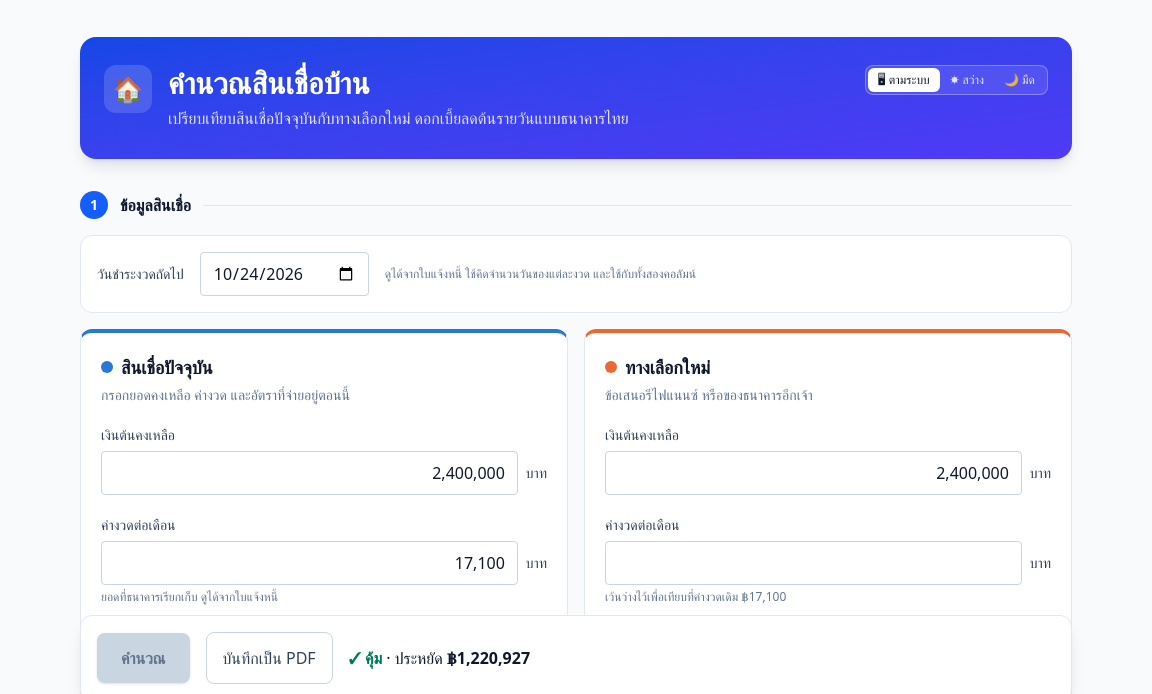
Test: App › refuses to calculate without a payment date
The width and height of the screenshot is (1152, 694).
Clear the date field labelled "วันชำระงวดถัดไป" at (284, 274), box [200,252,369,296]
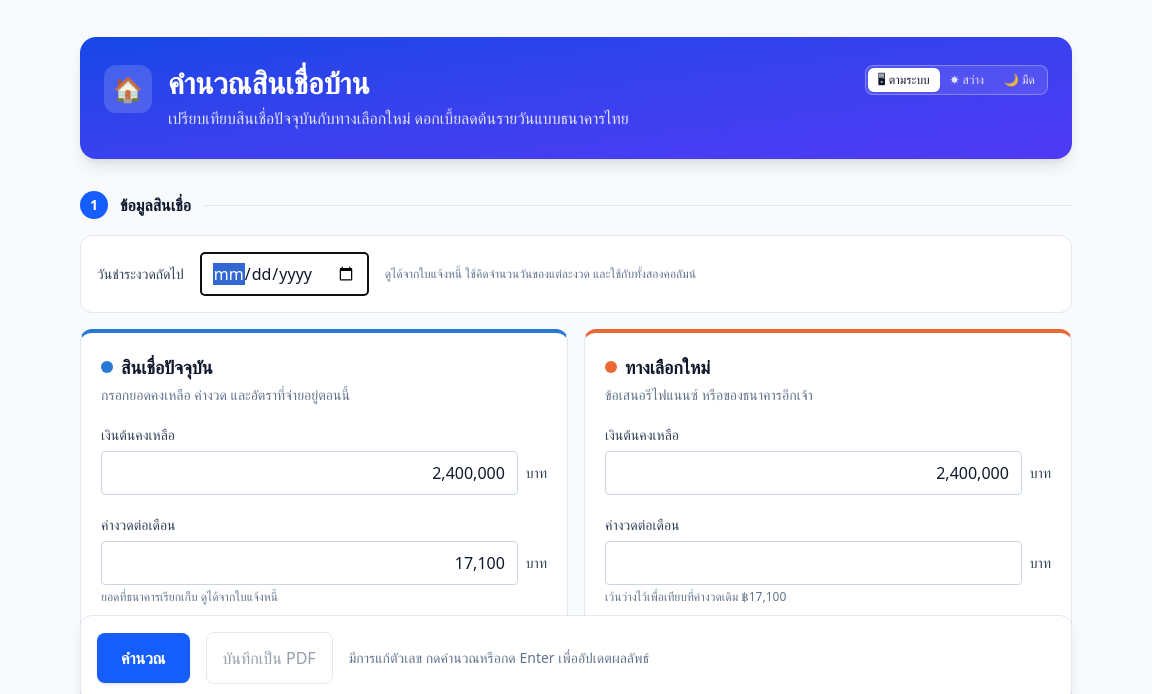
Click the button "คำนวณ" at (143, 658), box [97,633,190,683]
(page scrolled)
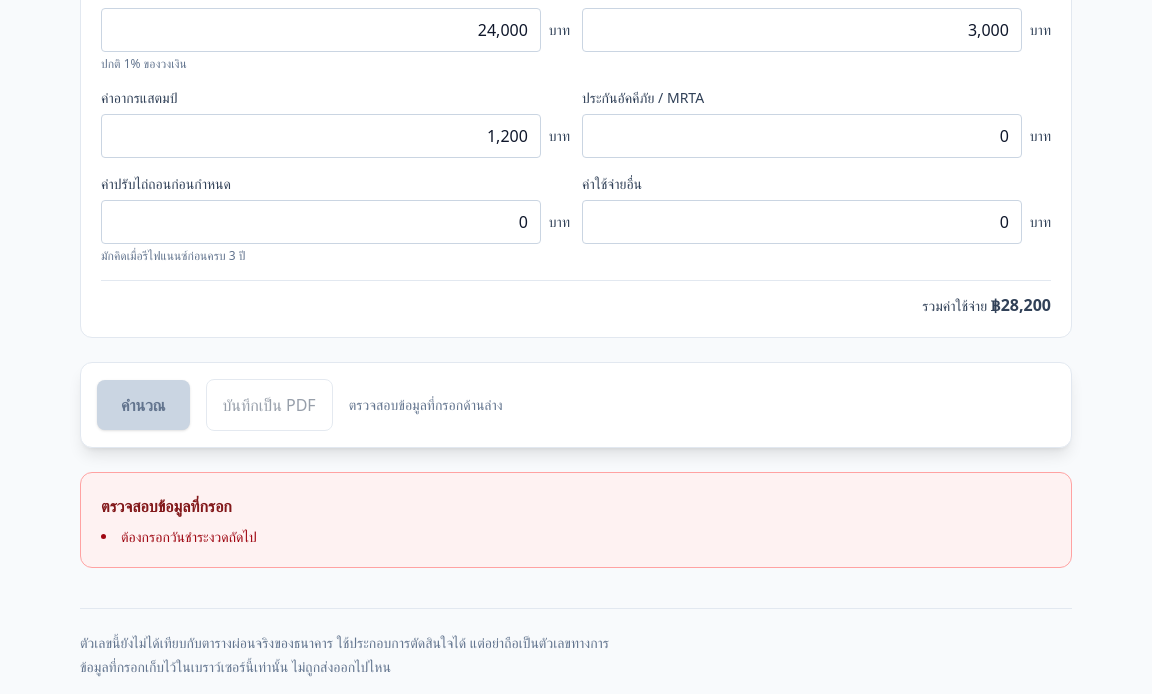
Expected: the list item "ต้องกรอกวันชำระงวดถัดไป" is shown, [121,527,257,546]
